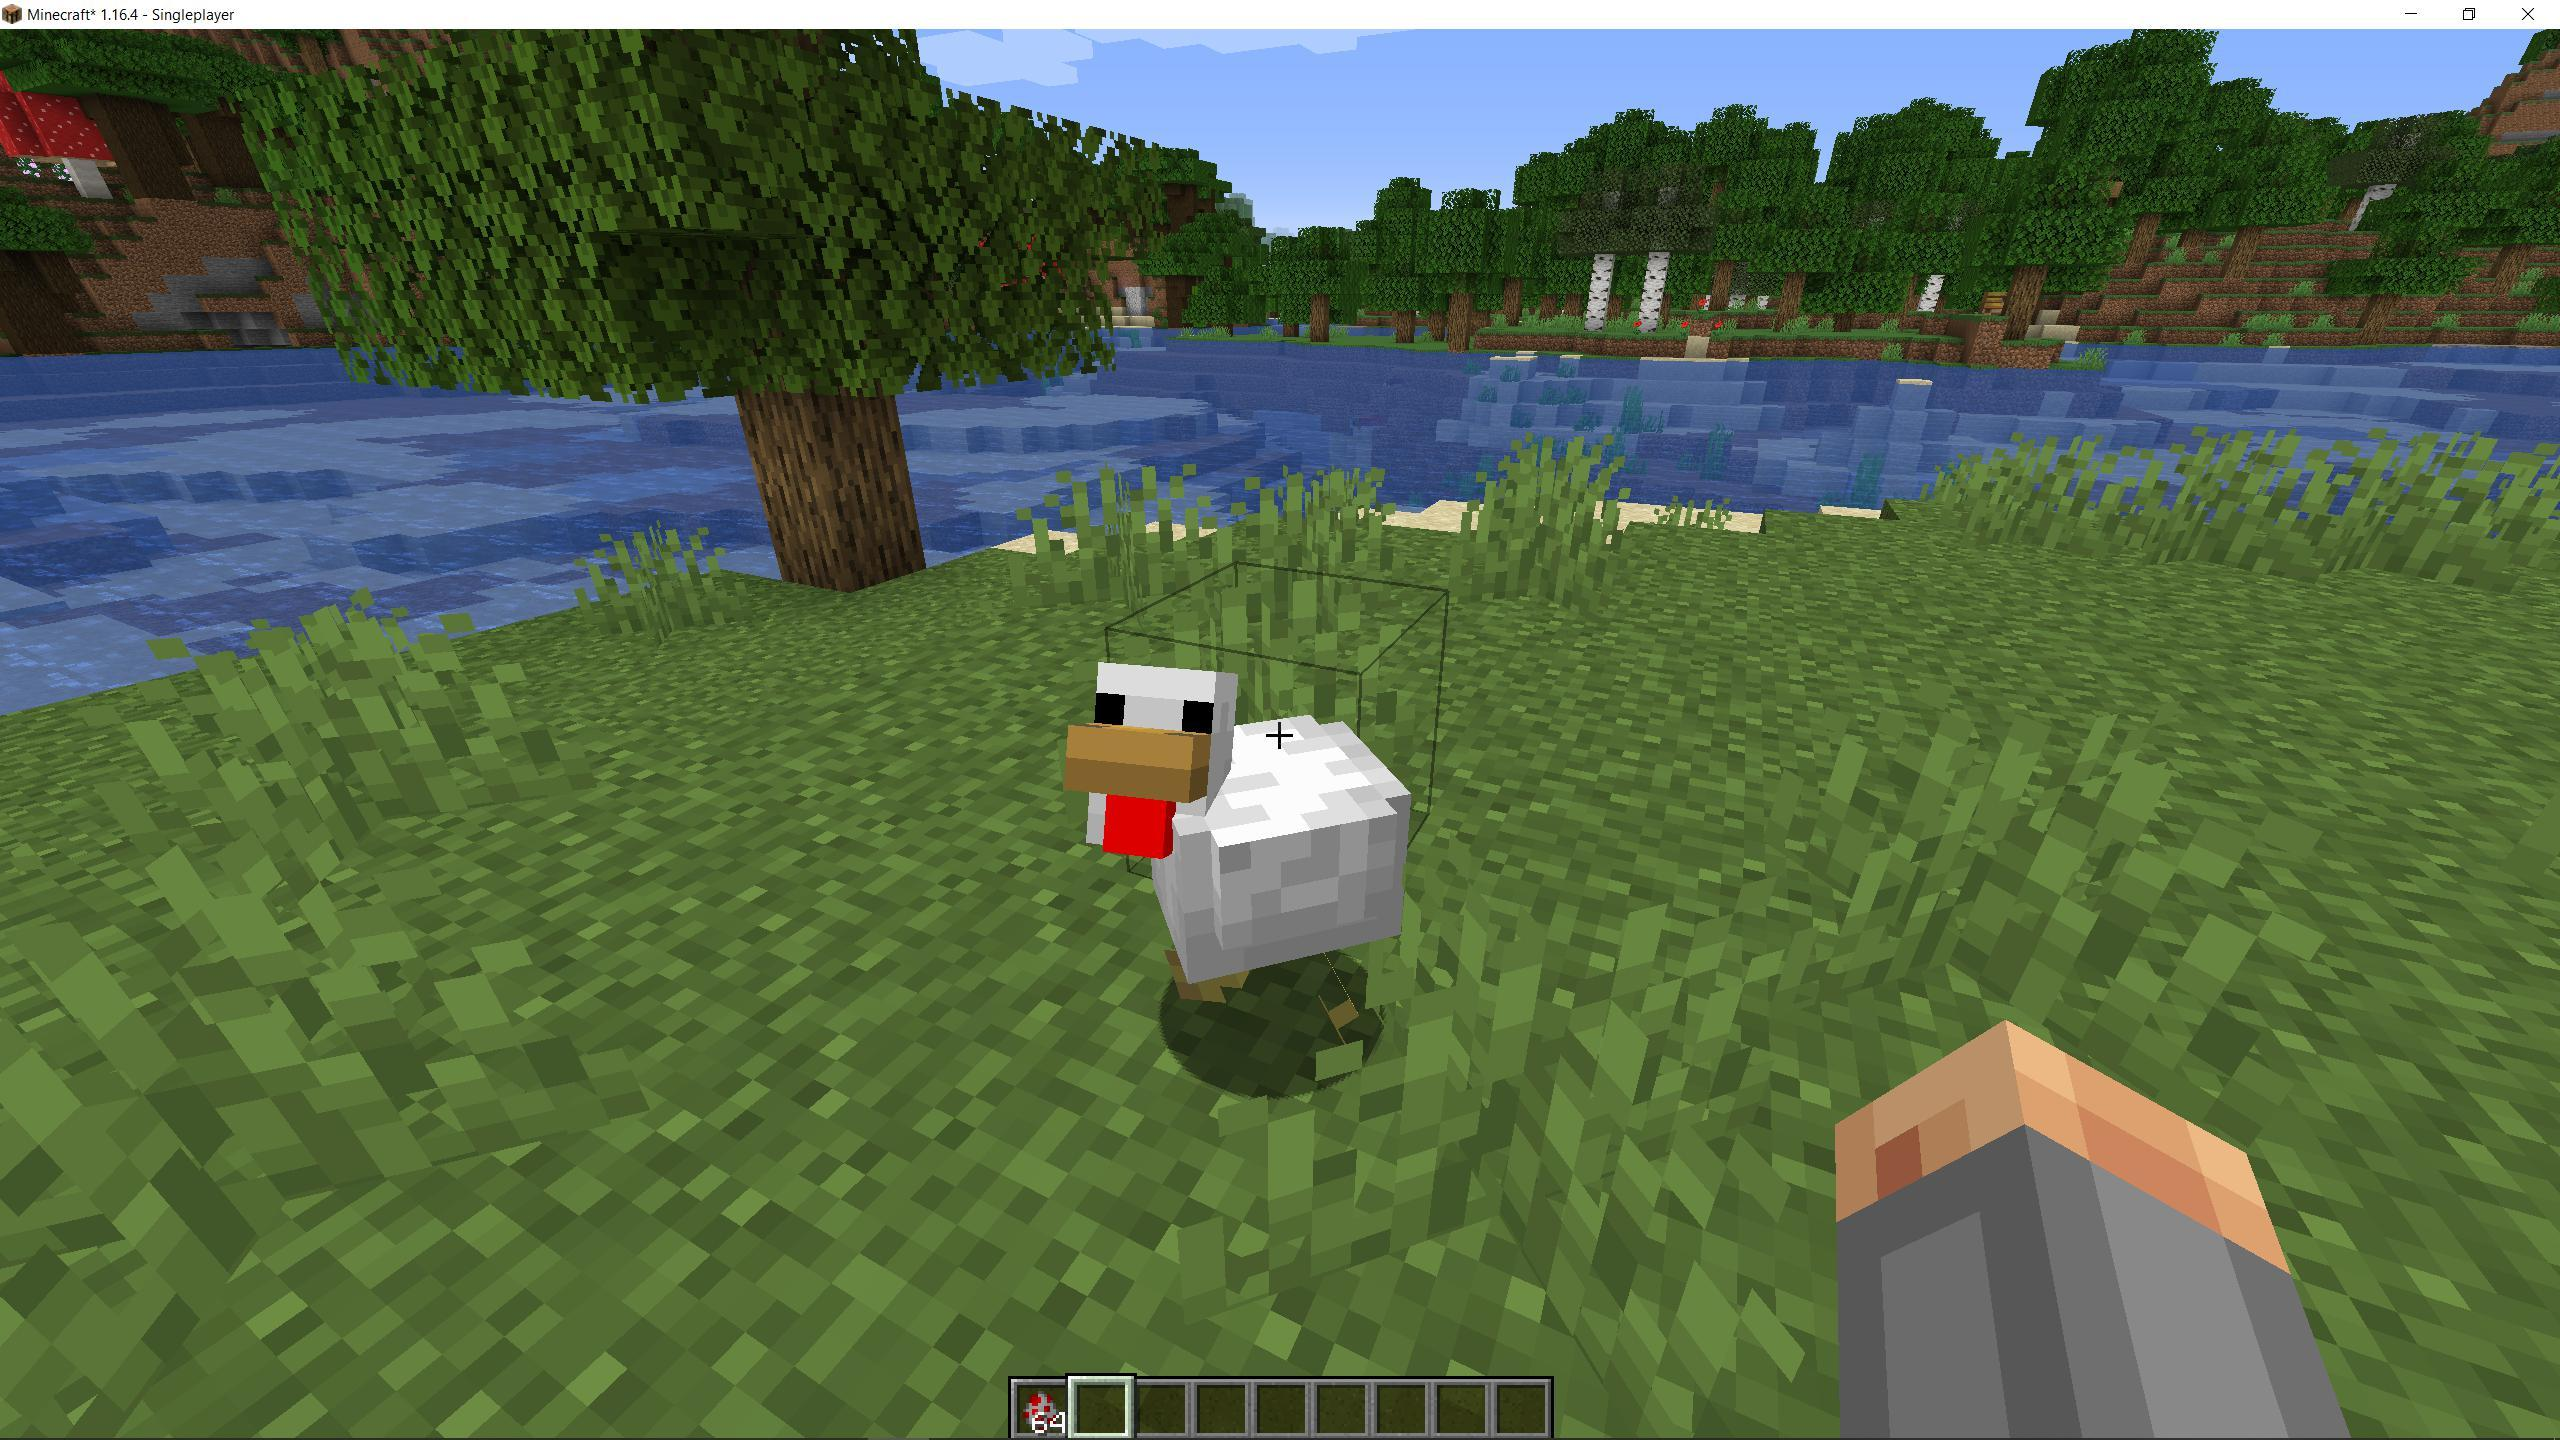chicken: (1062, 645, 1422, 1044)
